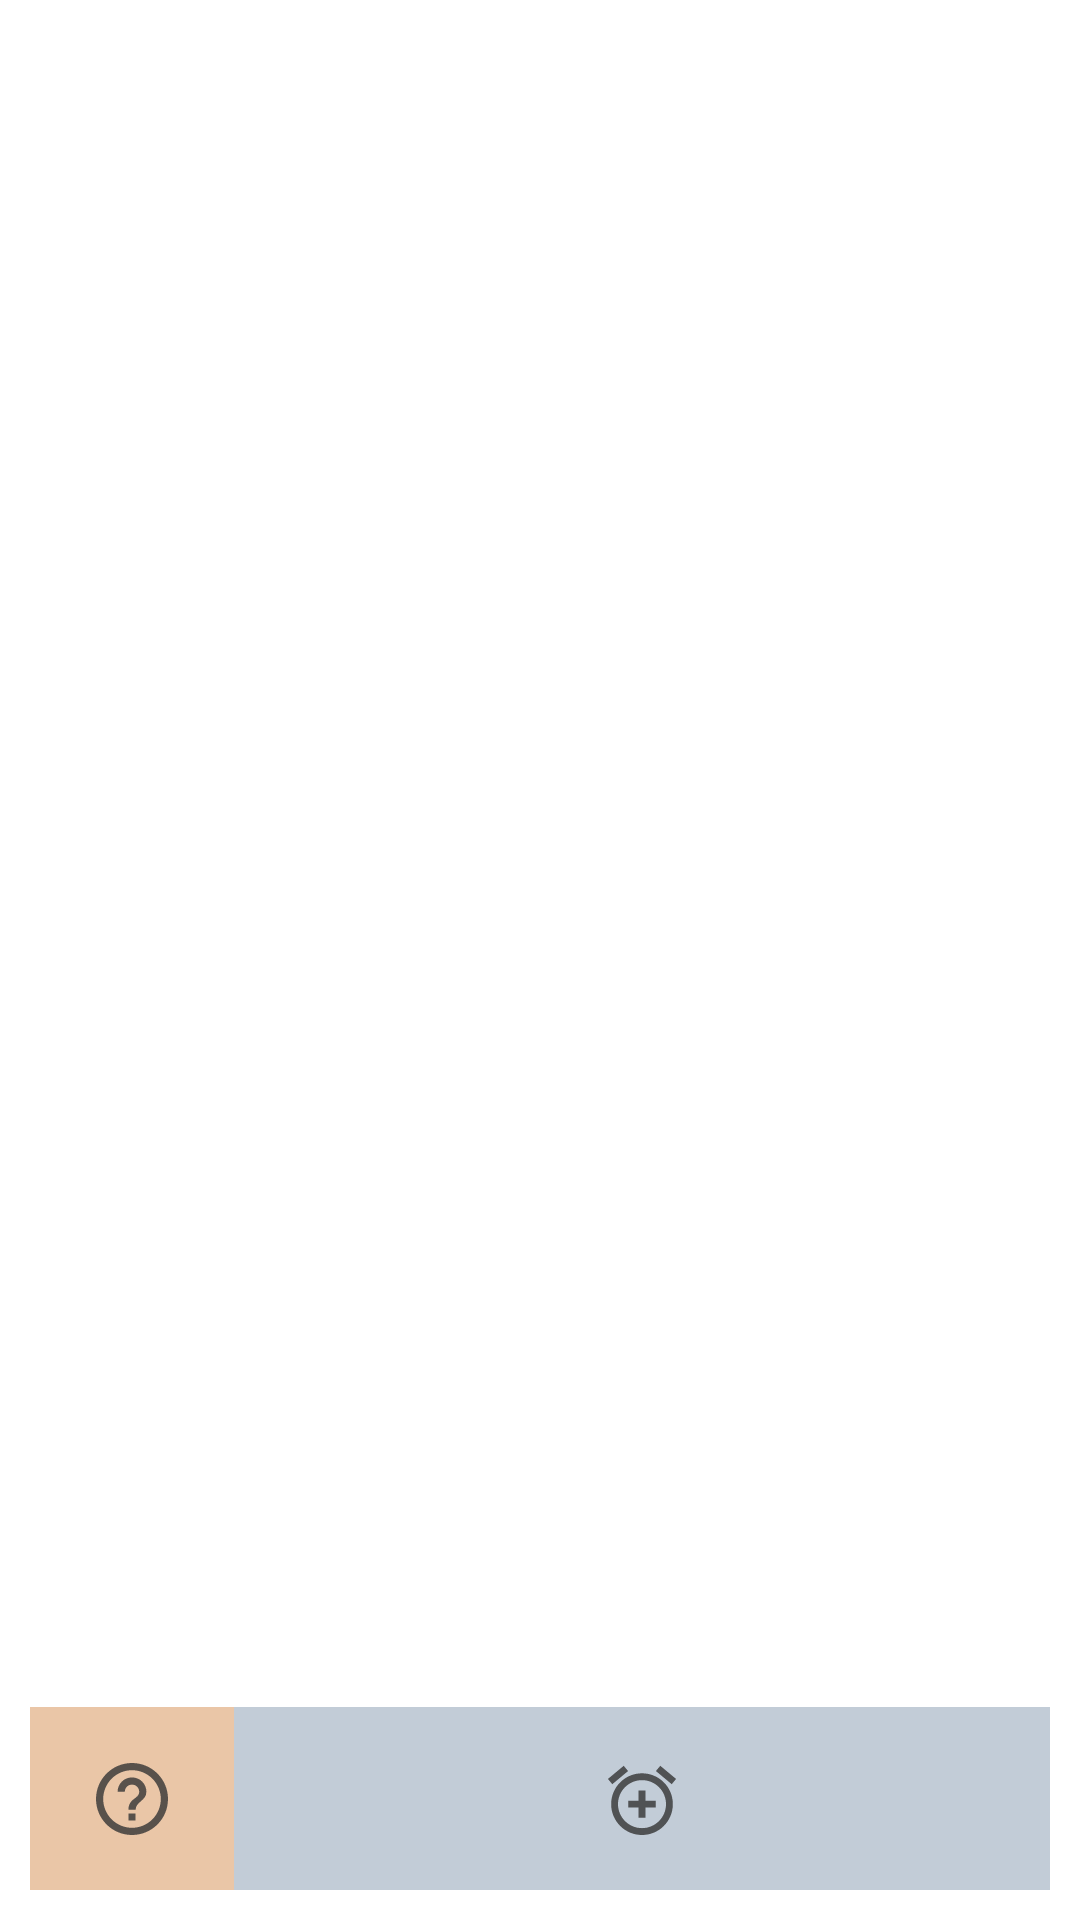

Named icons in this screenshot (1080 × 1920) and their centers, (x,y):
help: (132,1798)
